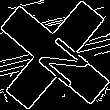N_NW: (23, 23, 87, 87)
